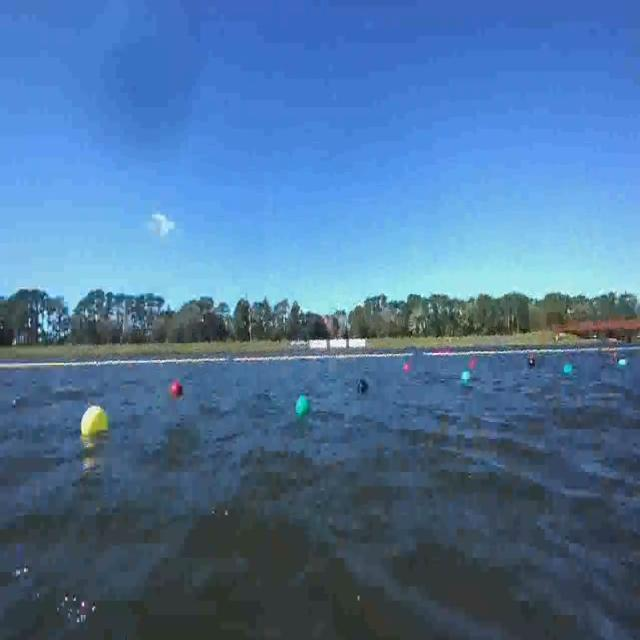black-buoy: (358, 378, 368, 394)
green-buoy: (295, 395, 309, 419)
red-buoy: (172, 382, 183, 398)
yellow-buoy: (82, 405, 110, 437)
